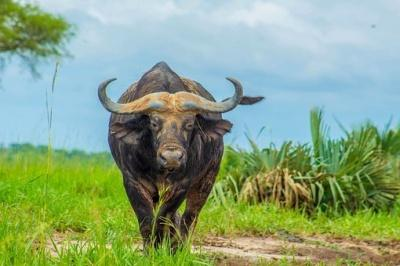buffalo: (98, 61, 263, 250)
